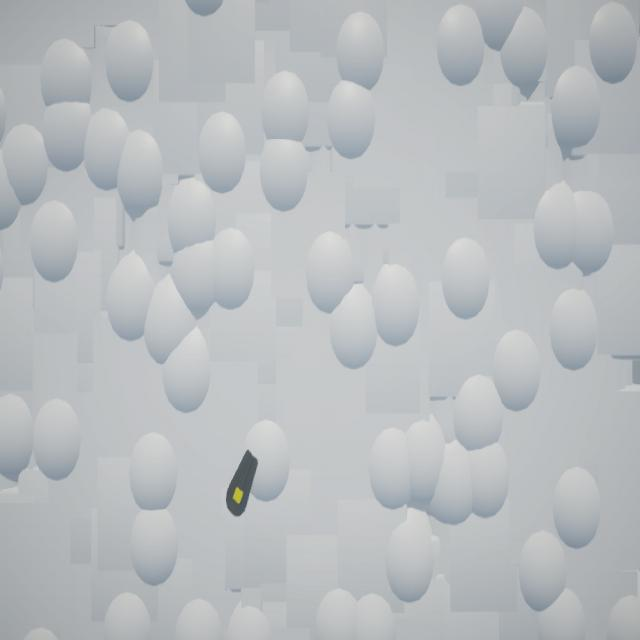handle_folk: (227, 450, 259, 518)
